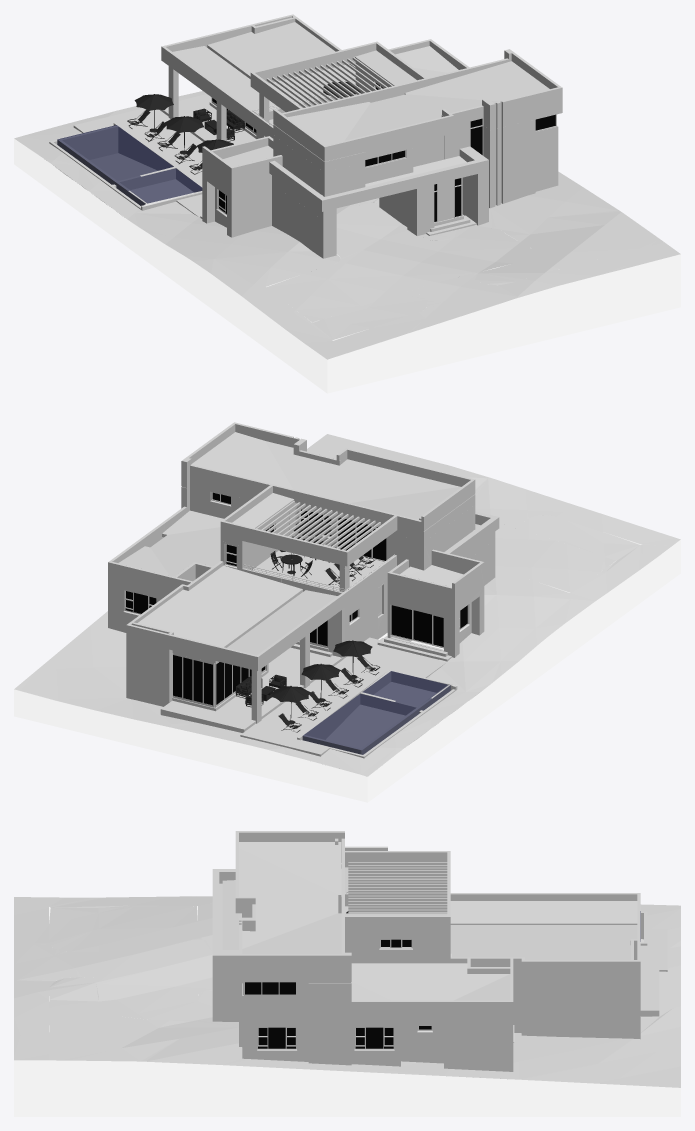
Rendered from house opt-1 placeHolder.glb.
3 views of the same model, one above another, from view 1: azimuth 30°, elevation 25°; view 2: azimuth 150°, elevation 25°; view 3: azimuth 270°, elevation 25° (orthographic). The views are drawn at different scales.
Parts seen in each view (by area): view 1: site.green.001, Base.001, main Driveway.001, simple Plaster_1.004, simple Plaster_1.005, simple Roofing - Sheets.003, simple Roofing - Sheets.002, main Road.001, main Pool.001, simple Plaster_1.003, water.002, simple Plaster_2.003 (+12 smaller); view 2: site.green.001, Base.001, simple Plaster_1.004, simple Roofing - Sheets.002, simple Plaster_1.005, simple Roofing - Sheets.003, simple Plaster_1.003, main Pool.001, main Road.001, main Paving.002, water.002, simple Glass.003 (+12 smaller); view 3: Base.001, site.green.001, simple Roofing - Sheets.002, simple Plaster_1.003, simple Plaster_1.004, main Driveway.001, simple Roofing - Sheets.003, simple Plaster_1.005, main Road.001, simple Wood.010, simple Plaster_3.005, simple Plaster_3.004 (+7 smaller).
Part boxes in pixels (x1,y1,x2,y2): site.green.001: (14, 91, 663, 347); Base.001: (14, 138, 680, 393); main Driveway.001: (266, 202, 541, 322); simple Plaster_1.004: (161, 14, 561, 211); simple Plaster_1.005: (250, 41, 562, 172); simple Roofing - Sheets.003: (288, 50, 549, 145); simple Roofing - Sheets.002: (173, 22, 466, 195); main Road.001: (311, 242, 680, 359); main Pool.001: (49, 122, 202, 210); simple Plaster_1.003: (202, 130, 535, 237); water.002: (57, 125, 202, 205); simple Plaster_2.003: (168, 67, 463, 258); site.green.001: (14, 446, 663, 776); Base.001: (14, 534, 680, 802); simple Plaster_1.004: (108, 485, 499, 670); simple Roofing - Sheets.002: (118, 510, 480, 655); simple Plaster_1.005: (181, 422, 475, 568); simple Roofing - Sheets.003: (191, 432, 460, 528); simple Plaster_1.003: (108, 581, 484, 716); main Pool.001: (297, 669, 457, 758); main Road.001: (311, 434, 680, 551); main Paving.002: (240, 637, 445, 756); water.002: (302, 671, 450, 754); simple Glass.003: (125, 591, 467, 705); Base.001: (14, 906, 680, 1116); site.green.001: (49, 896, 680, 1087); simple Roofing - Sheets.002: (222, 867, 637, 1000); simple Plaster_1.003: (212, 979, 640, 1079); simple Plaster_1.004: (212, 846, 640, 1023); main Driveway.001: (98, 906, 212, 1021); simple Roofing - Sheets.003: (239, 842, 447, 953); simple Plaster_1.005: (235, 831, 450, 982); main Road.001: (14, 897, 98, 1060); simple Wood.010: (348, 862, 447, 913); simple Plaster_3.005: (242, 982, 308, 1022); simple Plaster_3.004: (242, 1022, 308, 1061).
Bounding box in the file's own units: 26.31 × 10.33 × 40.36.
